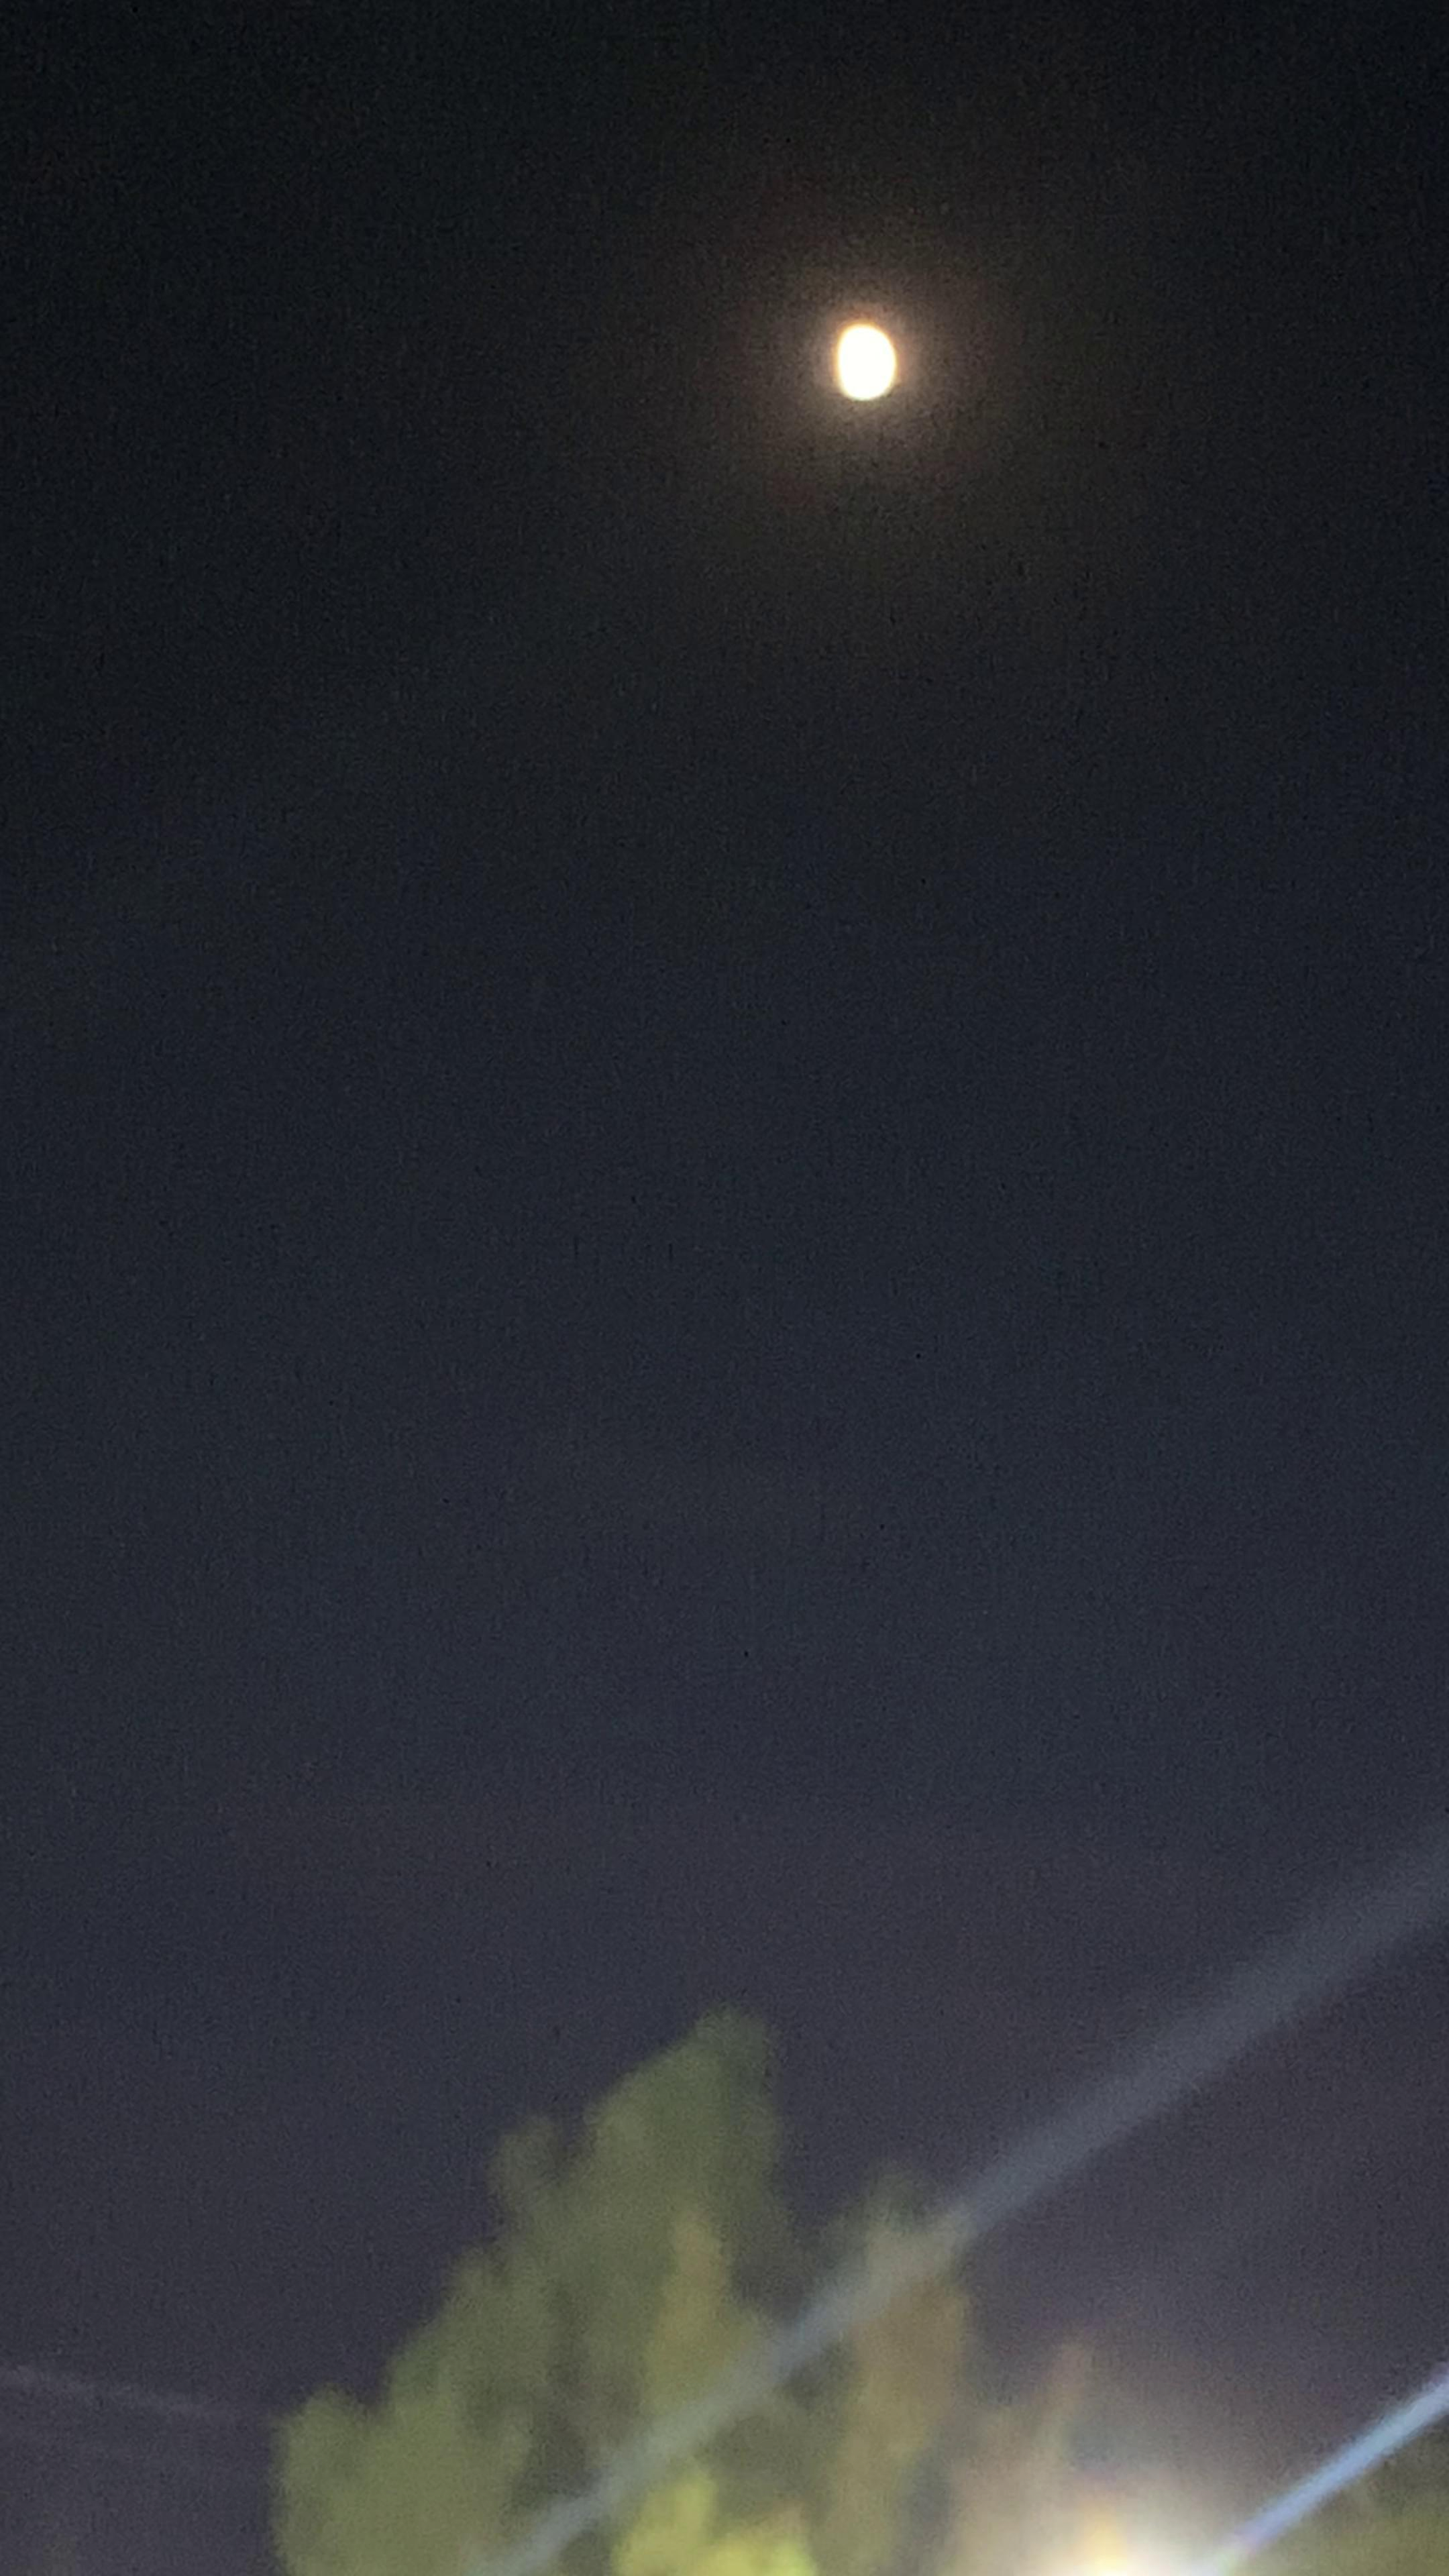moon: (805, 297, 934, 435)
